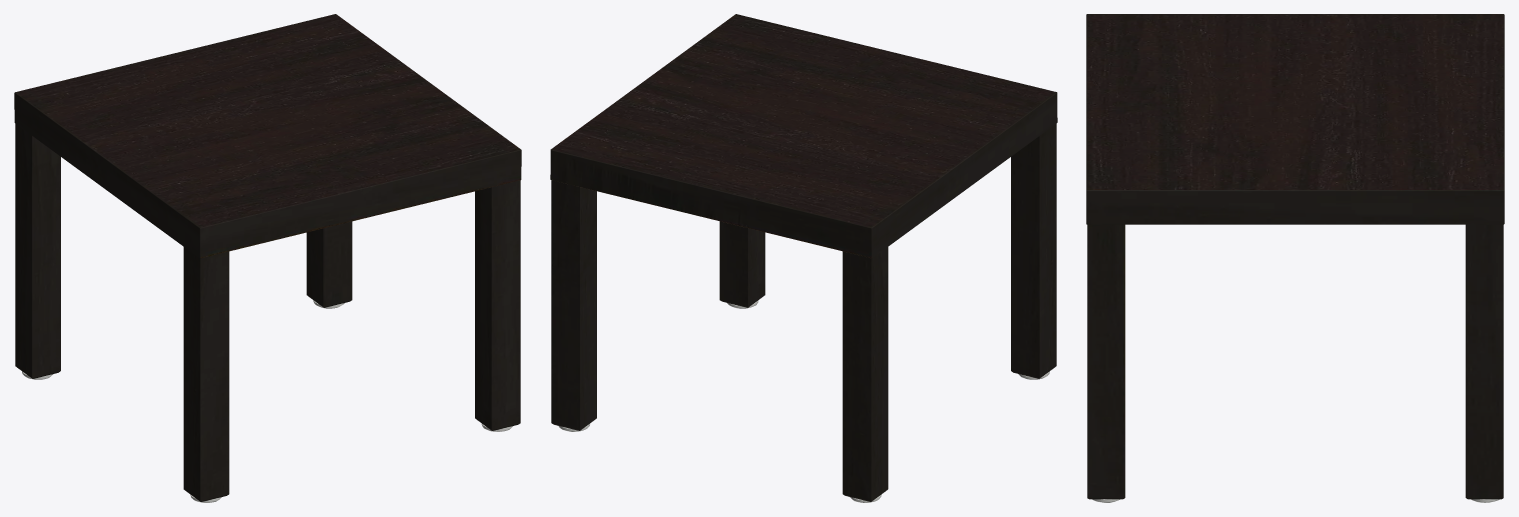
3 renders of one model, left to right at view 1: azimuth 30°, elevation 25°; view 2: azimuth 150°, elevation 25°; view 3: azimuth 270°, elevation 25°, orthographic. The views are drawn at different scales.
Parts seen in each view (by area): view 1: model; view 2: model; view 3: model.
Boxes of the visible parts, left/top/right/bottom form: model: left=14, top=14, right=521, bottom=502; model: left=550, top=14, right=1057, bottom=502; model: left=1086, top=14, right=1504, bottom=502.
Size of the model in its own units: 0.55 by 0.4557 by 0.55.
1 material, 1 textured.
